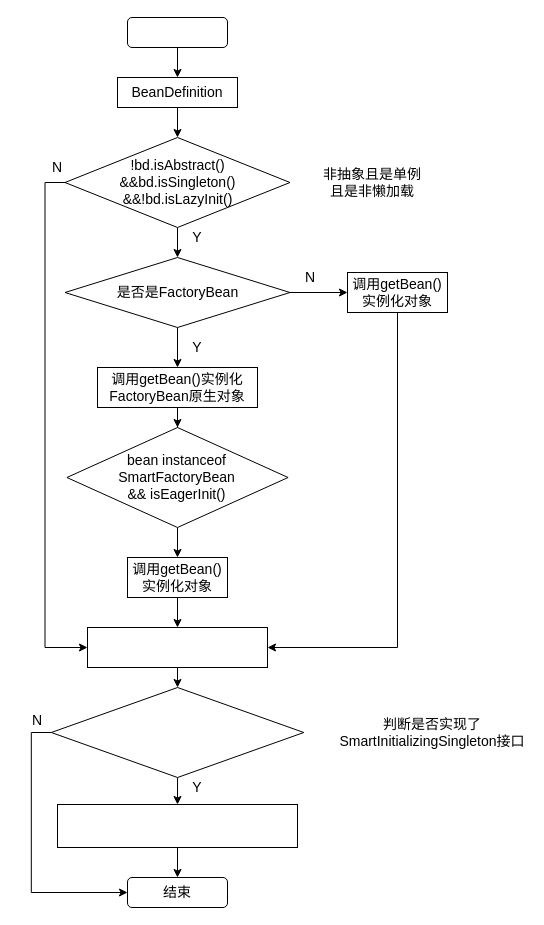
Image size: 544x925. Some labels were removed from this diagram. Each missing label, with the centre of its shape:
"instance = getSingleton()" belongs at (x=177, y=647).
"instance instanceof SmartInitializingSingleton" belongs at (x=177, y=732).
"instance.afterSingletonInstantiated()" belongs at (x=177, y=826).
"开始" belongs at (x=177, y=32).
